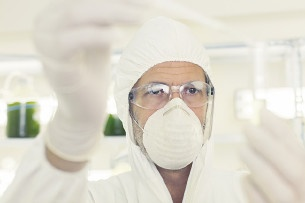Mask: (132, 76, 223, 167)
